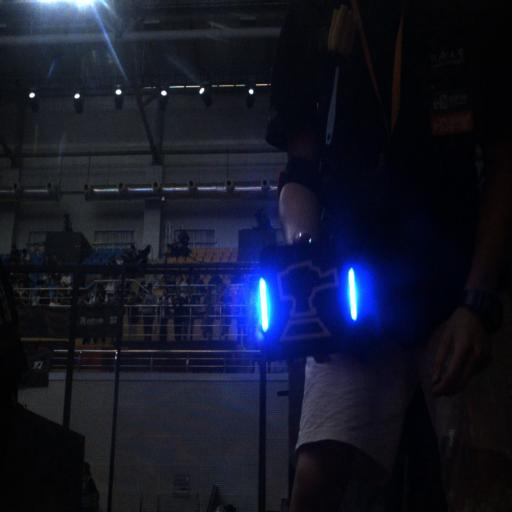target: (254, 244, 371, 359)
